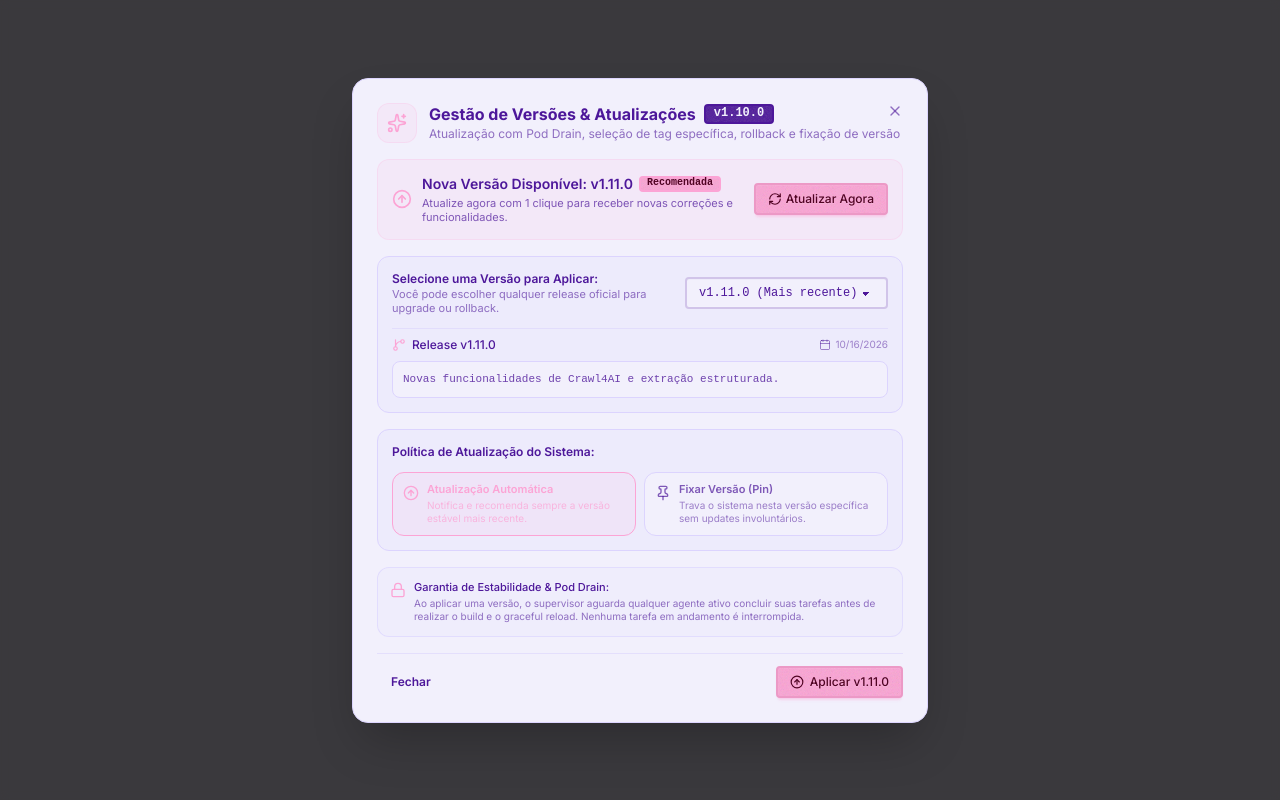
Scenario: SystemUpdateModal Component (Issue #64) › deve permitir selecionar outra versão e visualizar notas de release
Select "v1.10.0 (Instalada)" in the dropdown with test id "version-select-dropdown" at (786, 294), box [685,278,888,310]
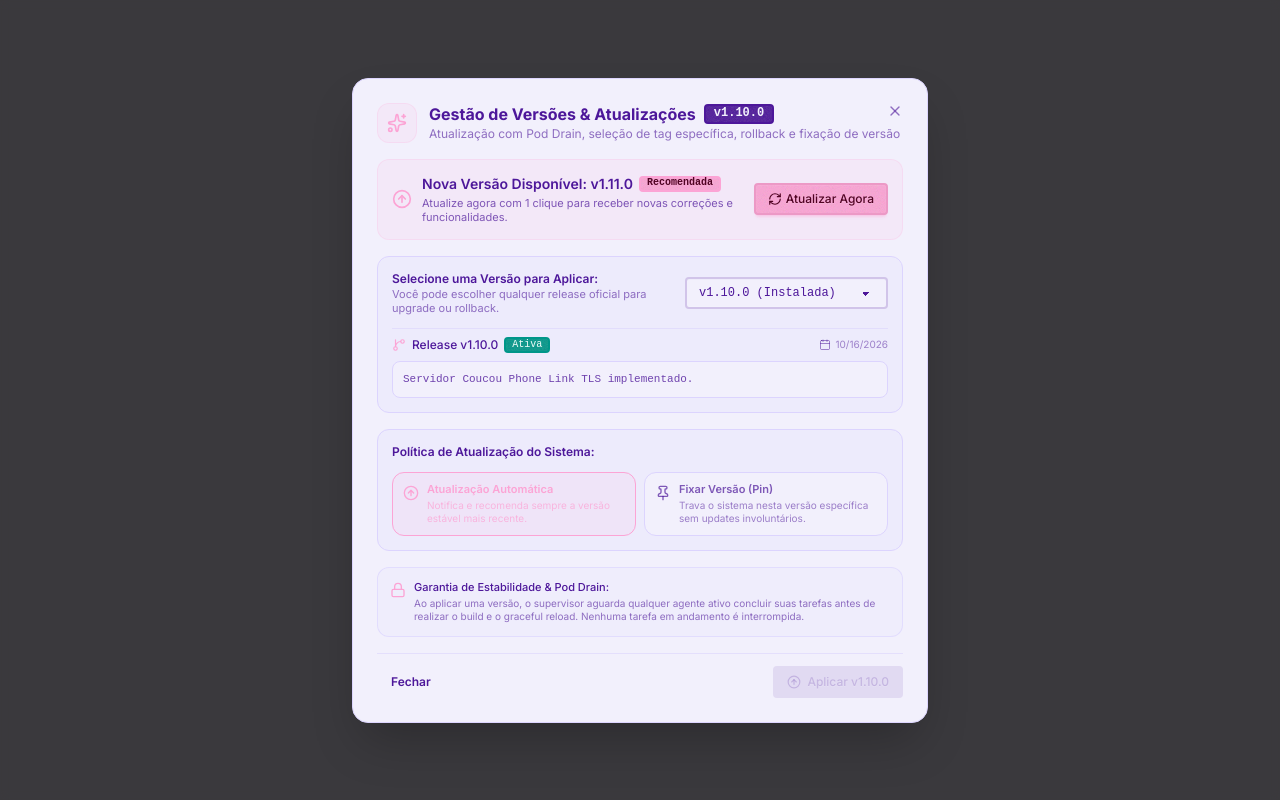
expect the text "Servidor Coucou Phone Link TLS implementado." is shown: met, box [392,361,888,398]
